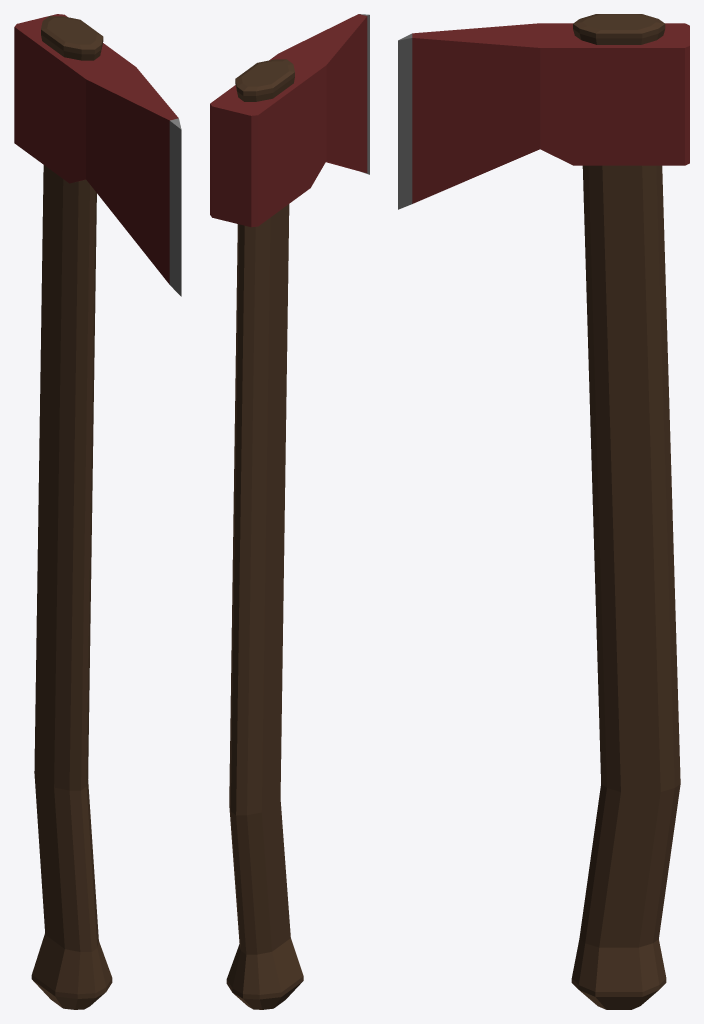
The model's file is Axe.fbx.
3 views of the same model, side by side, from view 1: azimuth 30°, elevation 25°; view 2: azimuth 150°, elevation 25°; view 3: azimuth 270°, elevation 25° (orthographic). The views are drawn at different scales.
Visible parts, largest first — view 1: Cylinder, Cube; view 2: Cylinder, Cube; view 3: Cylinder, Cube.
Boxes of the visible parts, bbox=[...] form: Cylinder: bbox=[31, 16, 112, 1009]; Cube: bbox=[14, 14, 181, 296]; Cylinder: bbox=[226, 59, 303, 1009]; Cube: bbox=[210, 14, 369, 227]; Cylinder: bbox=[571, 14, 680, 1009]; Cube: bbox=[398, 23, 689, 209].
Bounding box in the file's own units: 168 × 2720 × 734.
